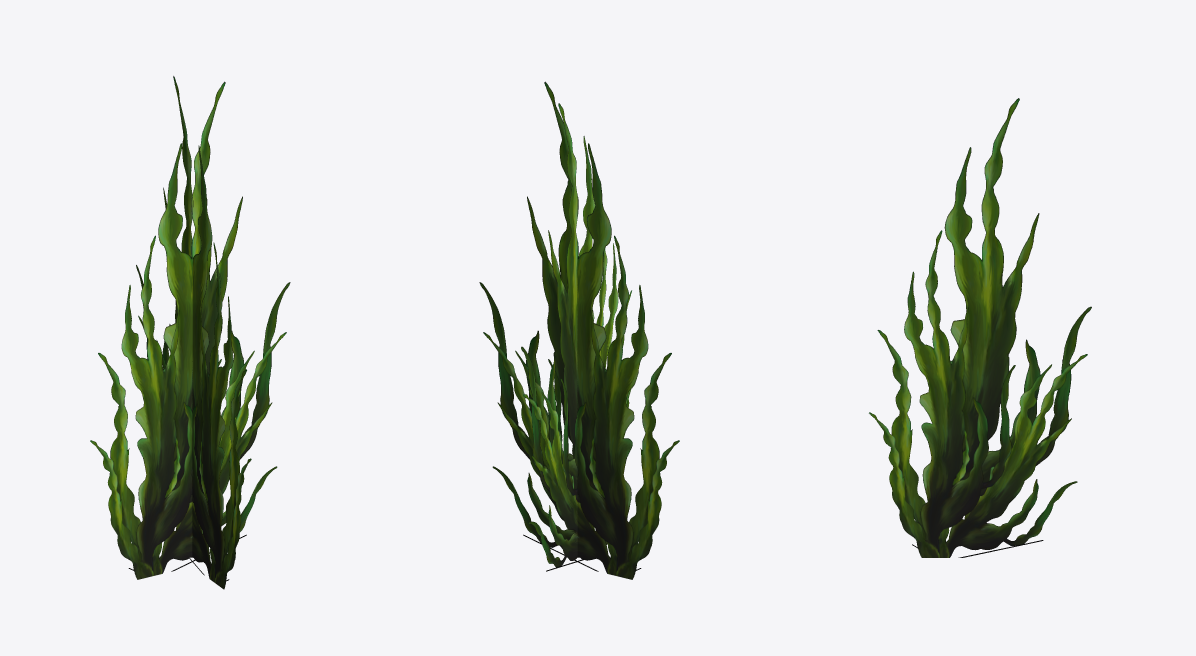
File: Seaweed.FBX
3 views of the same model, side by side, from view 1: azimuth 30°, elevation 25°; view 2: azimuth 150°, elevation 25°; view 3: azimuth 270°, elevation 25° (orthographic). The views are drawn at different scales.
Visible parts, largest first — view 1: Seaweed; view 2: Seaweed; view 3: Seaweed.
Part boxes in pixels (left/top/right/bottom): Seaweed: left=90, top=76, right=290, bottom=589; Seaweed: left=479, top=81, right=679, bottom=579; Seaweed: left=869, top=98, right=1091, bottom=557.
Size of the model in its own units: 63.64 by 81.37 by 63.64.
Materials: 1 (1 with a texture image).
